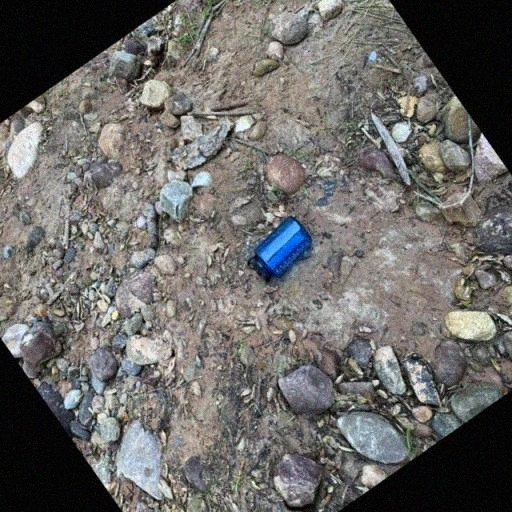bottle: (237, 211, 320, 288)
